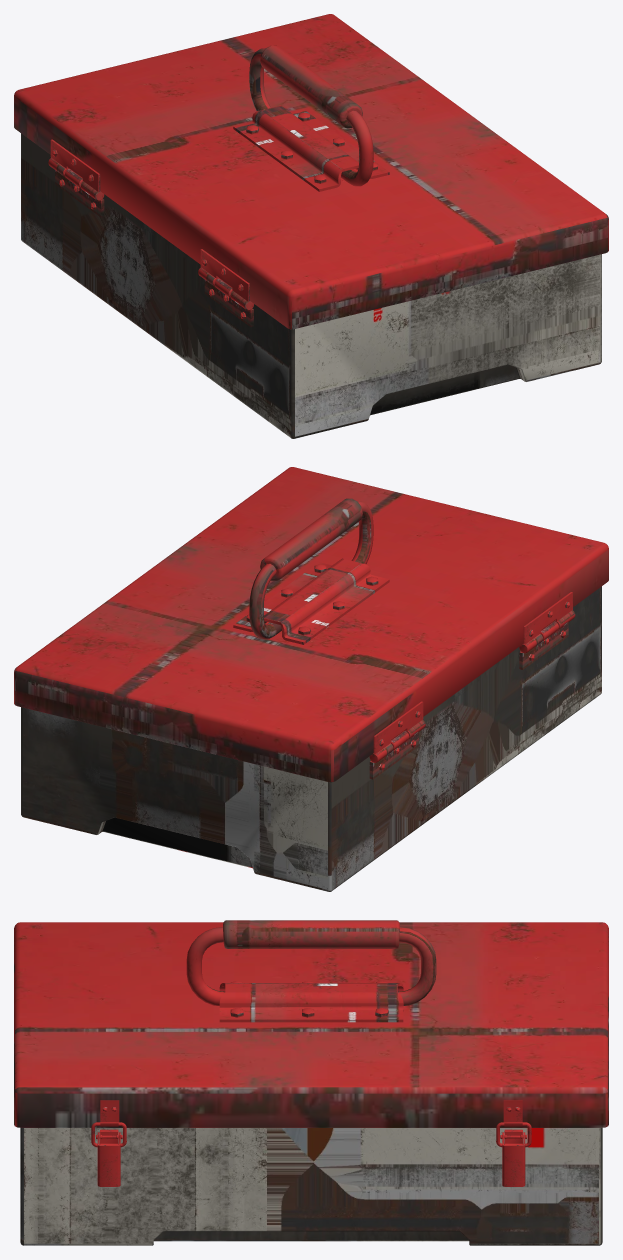
Rendered from first_aid.glb.
3 renders of one model, top to bottom at view 1: azimuth 30°, elevation 25°; view 2: azimuth 150°, elevation 25°; view 3: azimuth 270°, elevation 25°, orthographic. The views are drawn at different scales.
Visible parts, largest first — view 1: body; view 2: body; view 3: body.
Part boxes in pixels (bbox=[...]): body: bbox=[14, 14, 608, 438]; body: bbox=[14, 467, 608, 891]; body: bbox=[14, 920, 608, 1245].
Size of the model in its own units: 0.2356 by 0.154 by 0.34.
Materials: 2 (2 with a texture image).
